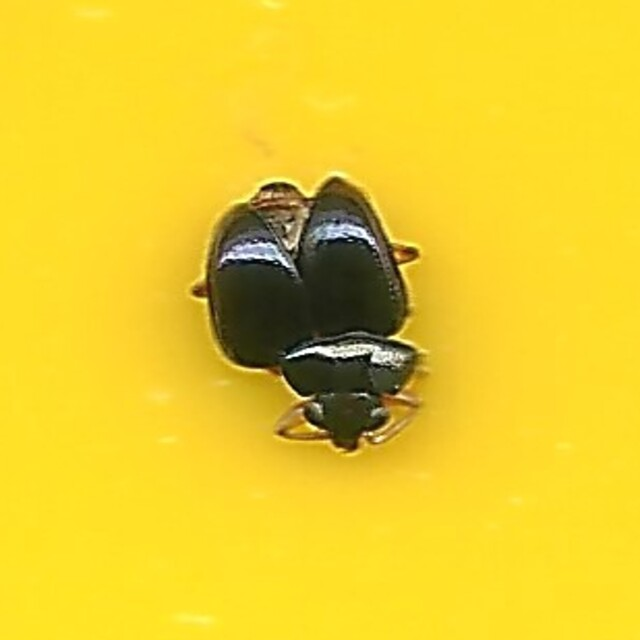Coleoptera: (207, 175, 433, 465)
